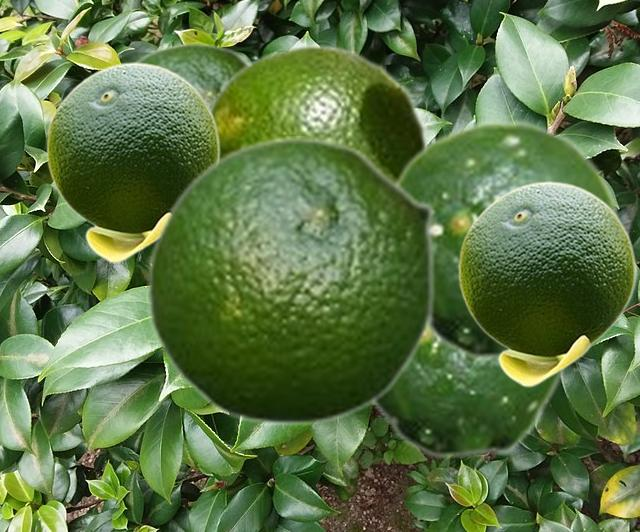calamansi: (146, 136, 436, 426), (391, 119, 621, 361), (458, 181, 635, 386), (46, 62, 219, 262), (207, 43, 430, 176), (370, 335, 568, 459), (130, 42, 249, 100)
